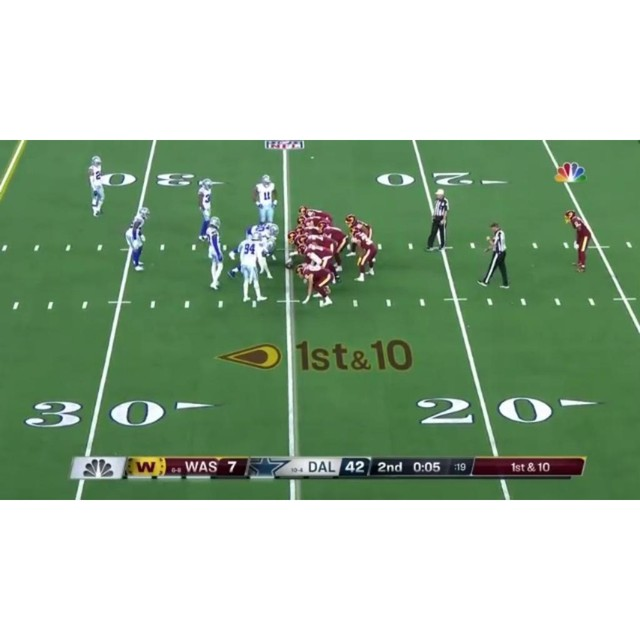american-football-player: (236, 235, 269, 304), (295, 261, 336, 307), (564, 209, 592, 273), (201, 217, 225, 291), (124, 207, 150, 271), (349, 225, 378, 282), (319, 222, 349, 273), (253, 173, 277, 225), (87, 155, 106, 218), (296, 240, 335, 270), (196, 178, 213, 242), (345, 214, 372, 241)
referee: (478, 222, 512, 290), (426, 189, 450, 252)
